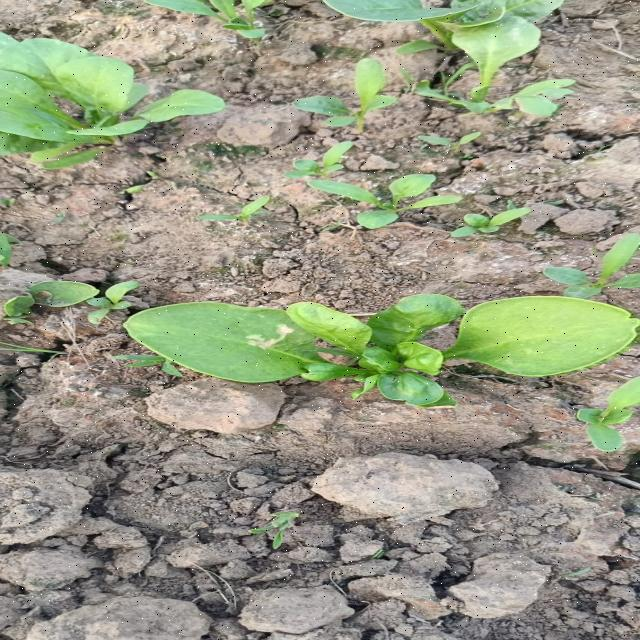plant: (126, 294, 639, 408), (0, 34, 225, 168)
